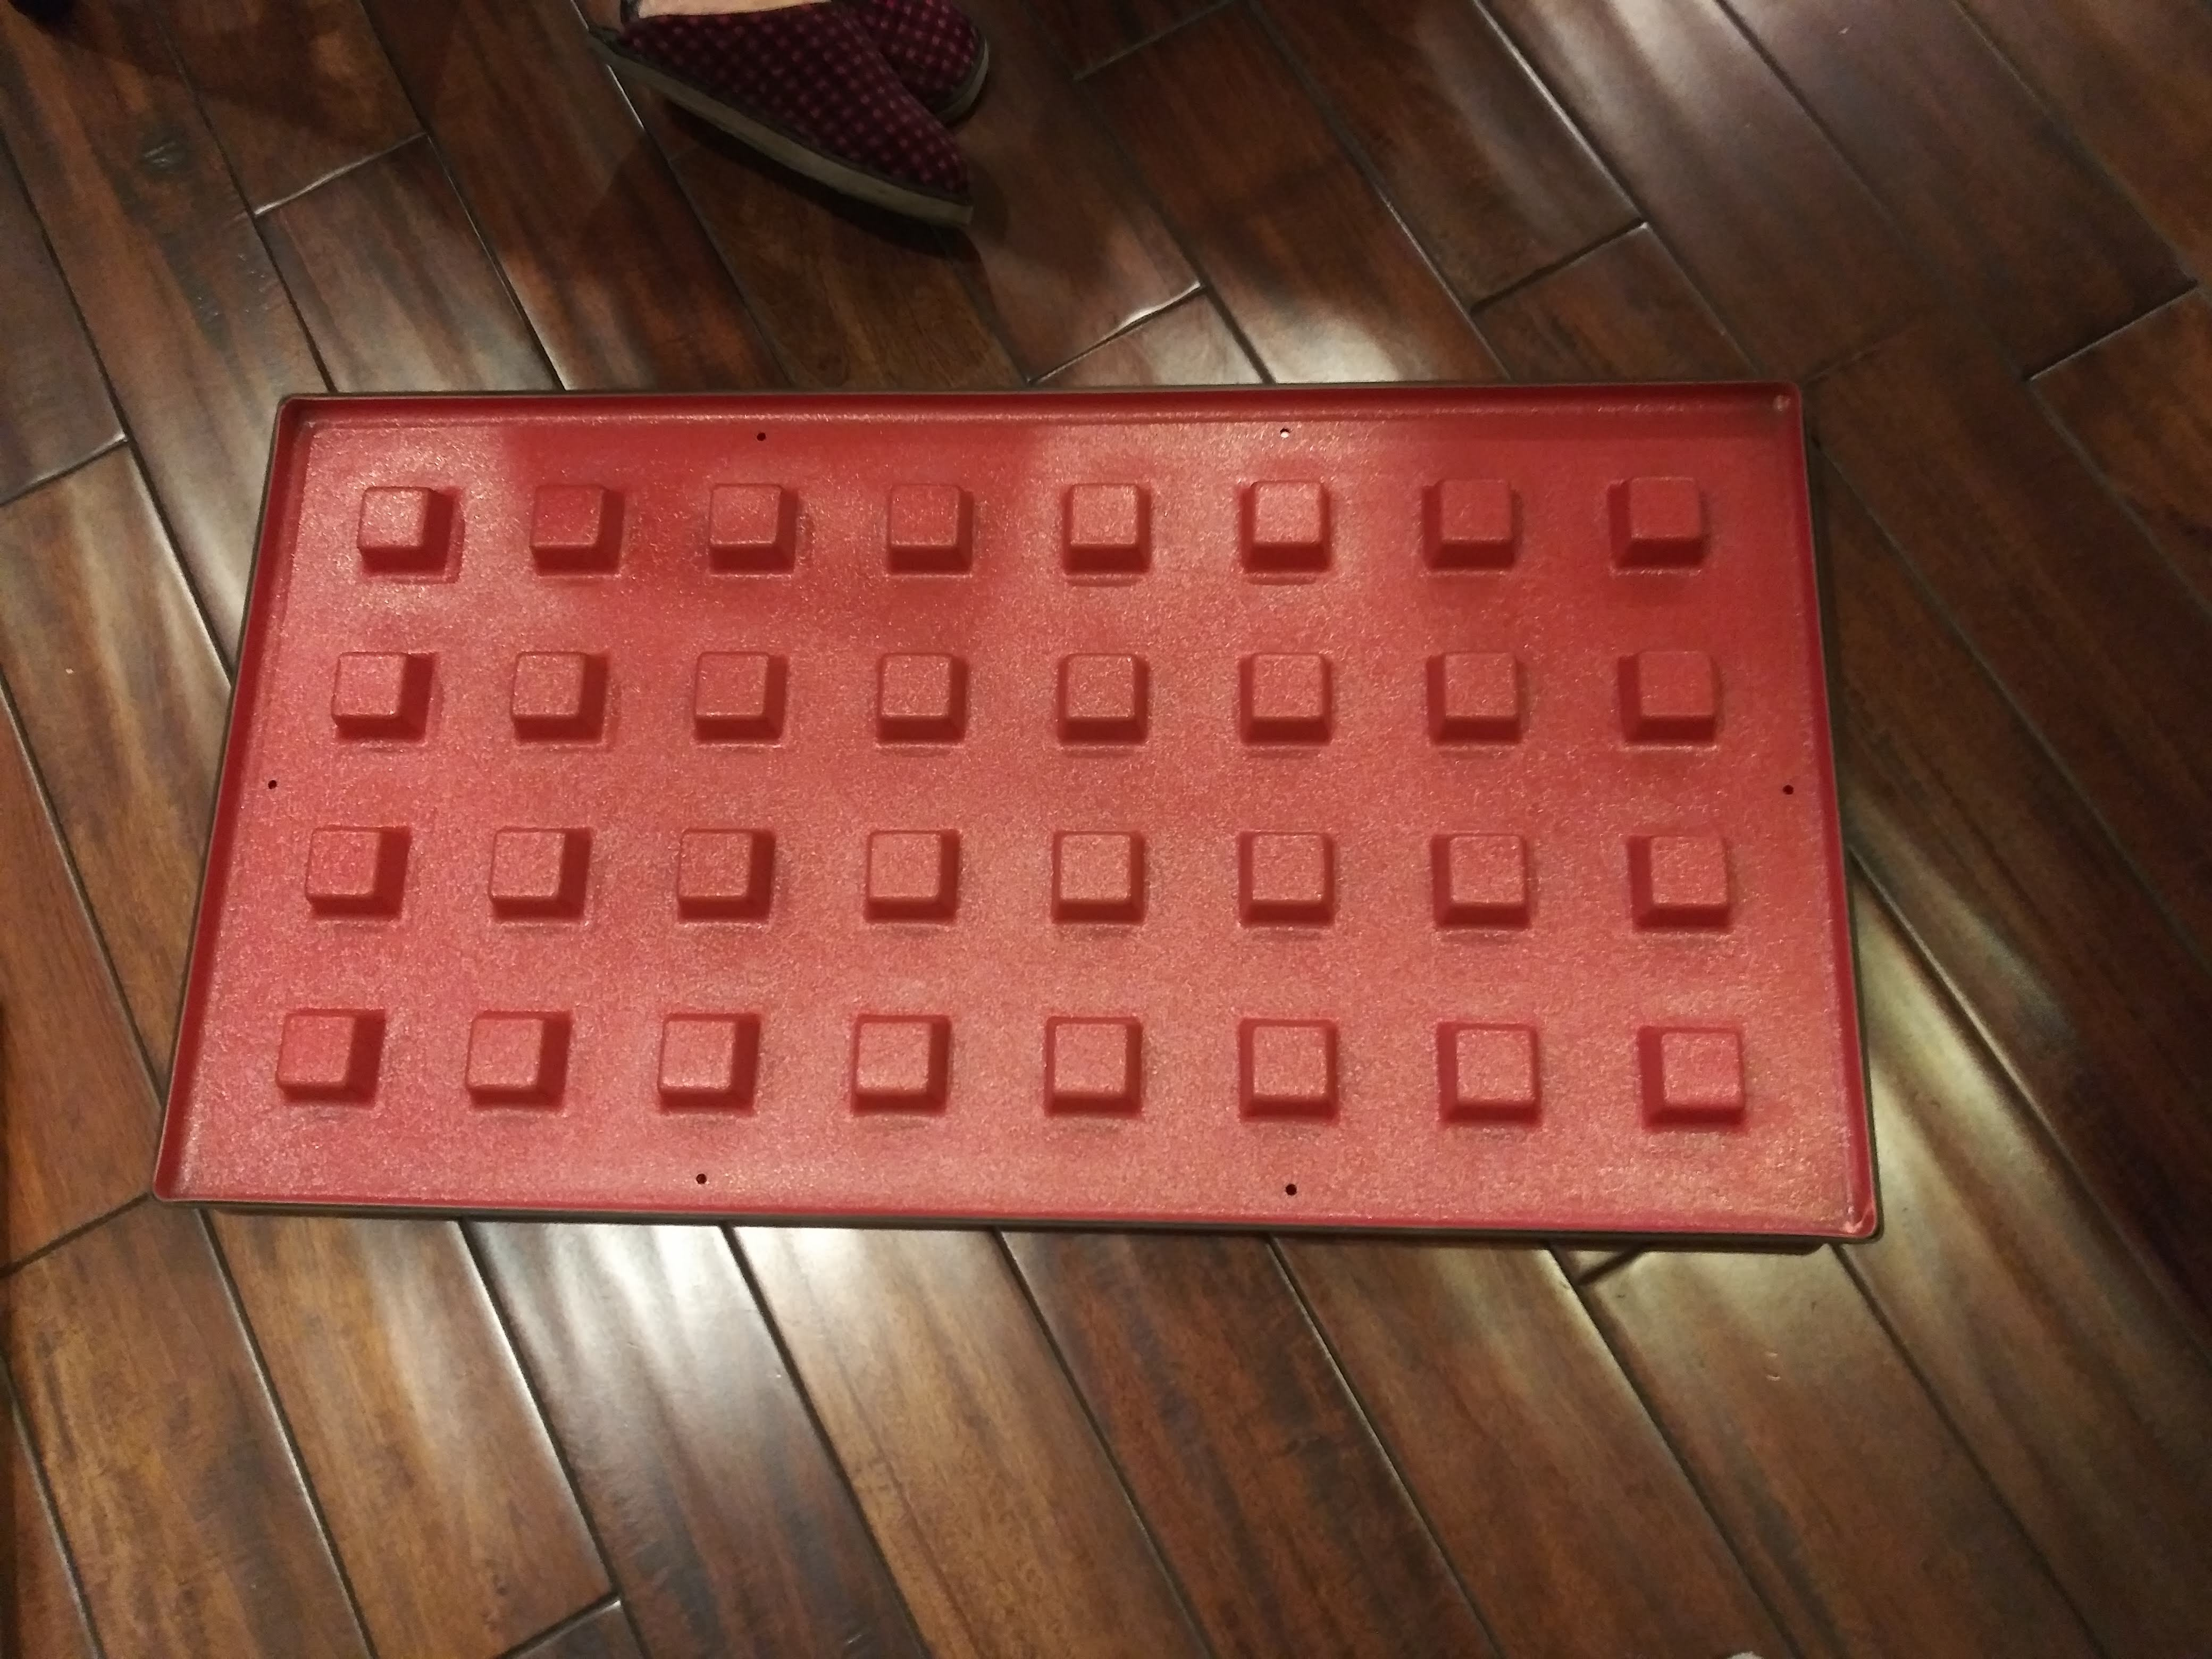red foundation: (132, 366, 1897, 1255)
